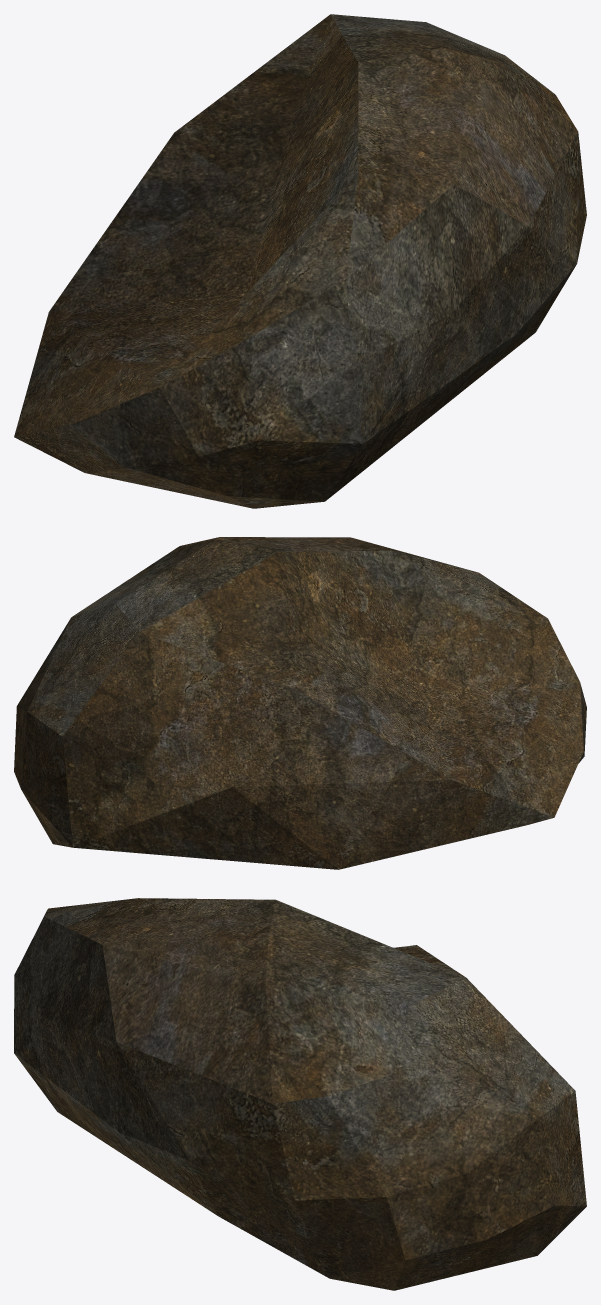
The model's file is stone_1.obj.
3 views of the same model, one above another, from view 1: azimuth 30°, elevation 25°; view 2: azimuth 150°, elevation 25°; view 3: azimuth 270°, elevation 25° (orthographic). The views are drawn at different scales.
Visible parts, largest first — view 1: stone_1; view 2: stone_1; view 3: stone_1.
Boxes of the visible parts, <box> form: stone_1: <box>14,14,586,508</box>; stone_1: <box>14,537,586,869</box>; stone_1: <box>14,898,586,1290</box>.
Bounding box in the file's own units: 1.52 × 0.8137 × 1.36.
